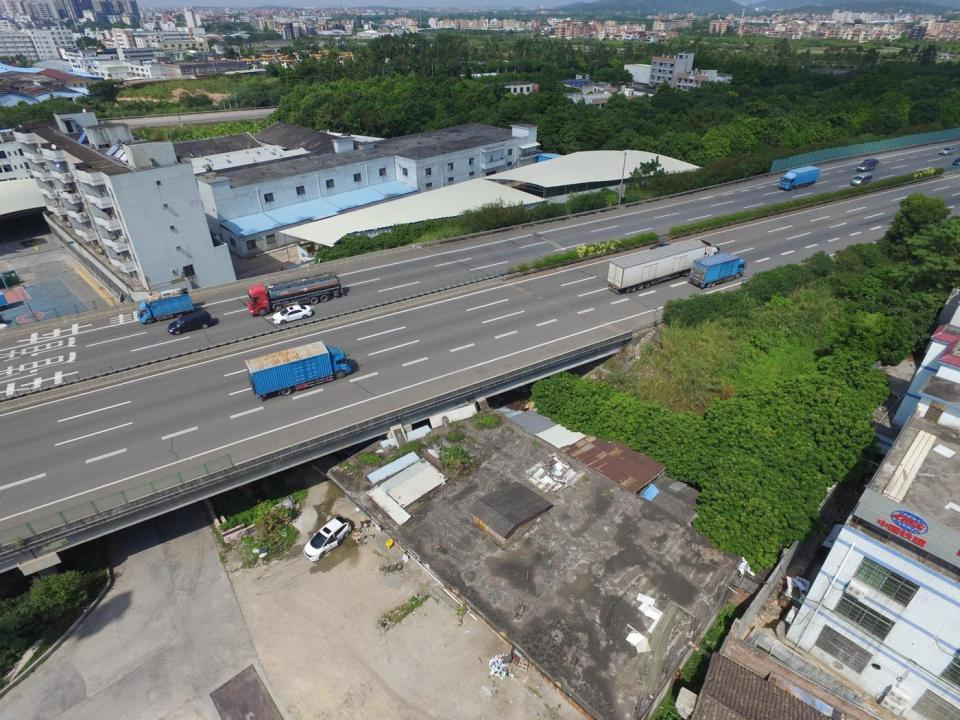car: (302, 516, 352, 562), (167, 310, 212, 335), (272, 305, 312, 324), (648, 243, 669, 254), (940, 147, 955, 156)
truck: (248, 270, 342, 318)
van: (245, 340, 352, 401), (606, 239, 720, 294), (688, 252, 748, 288), (139, 287, 194, 325), (779, 166, 820, 191), (852, 172, 872, 187), (859, 159, 879, 172)
